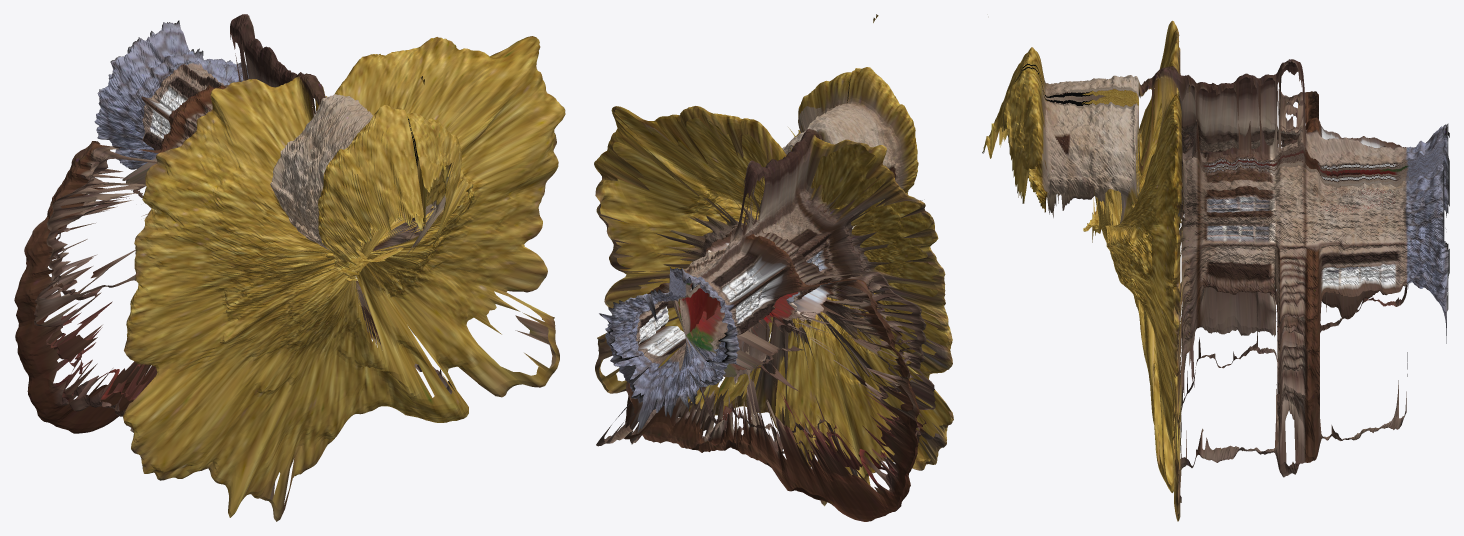
The picture shows the model from 3 angles, left to right: view 1: azimuth 30°, elevation 25°; view 2: azimuth 150°, elevation 25°; view 3: azimuth 270°, elevation 25°; orthographic projection. The views are drawn at different scales.
Visible parts, largest first — view 1: geometry_0; view 2: geometry_0; view 3: geometry_0.
Boxes of the visible parts, <box> form: geometry_0: <box>14,14,565,521</box>; geometry_0: <box>594,14,953,521</box>; geometry_0: <box>982,20,1449,521</box>.
Size of the model in its own units: 1.15 by 1.19 by 1.06.
1 material, 1 textured.
